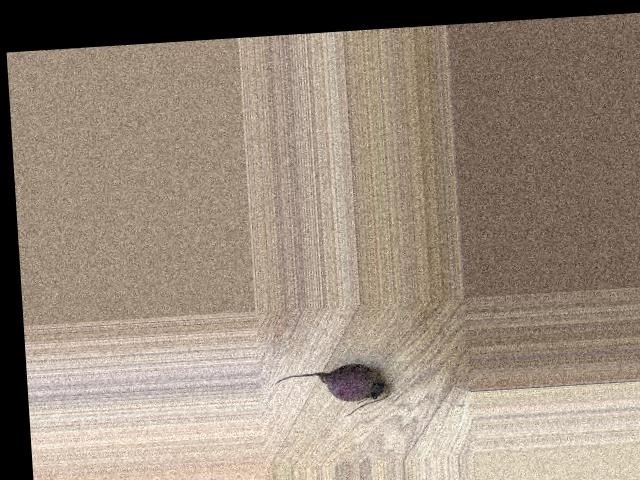beet: (273, 361, 390, 419)
